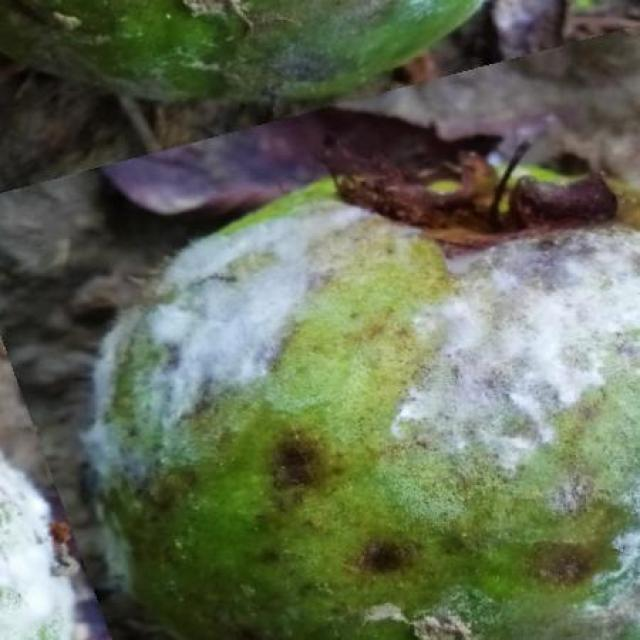Phytopthora: (88, 188, 640, 640)
